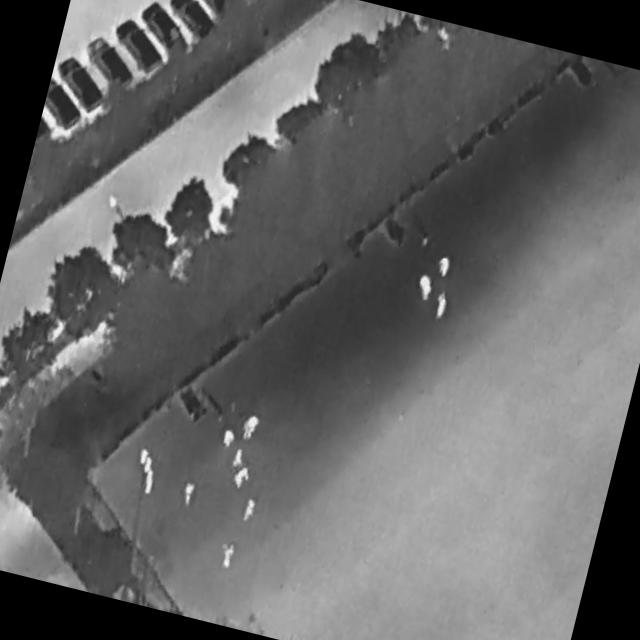person: (413, 271, 439, 306), (229, 460, 255, 493), (240, 412, 261, 442), (217, 542, 237, 573), (435, 255, 454, 282), (433, 293, 450, 321), (180, 482, 197, 507), (220, 428, 237, 451), (243, 499, 257, 526), (231, 447, 246, 470)
